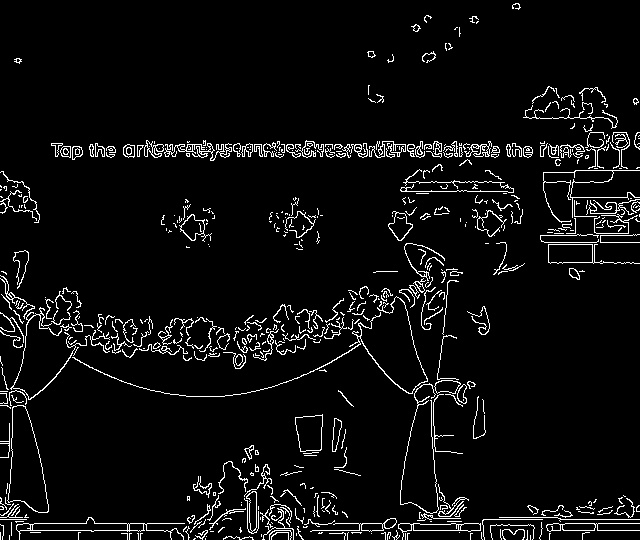rune_box: (134, 185, 555, 277)
